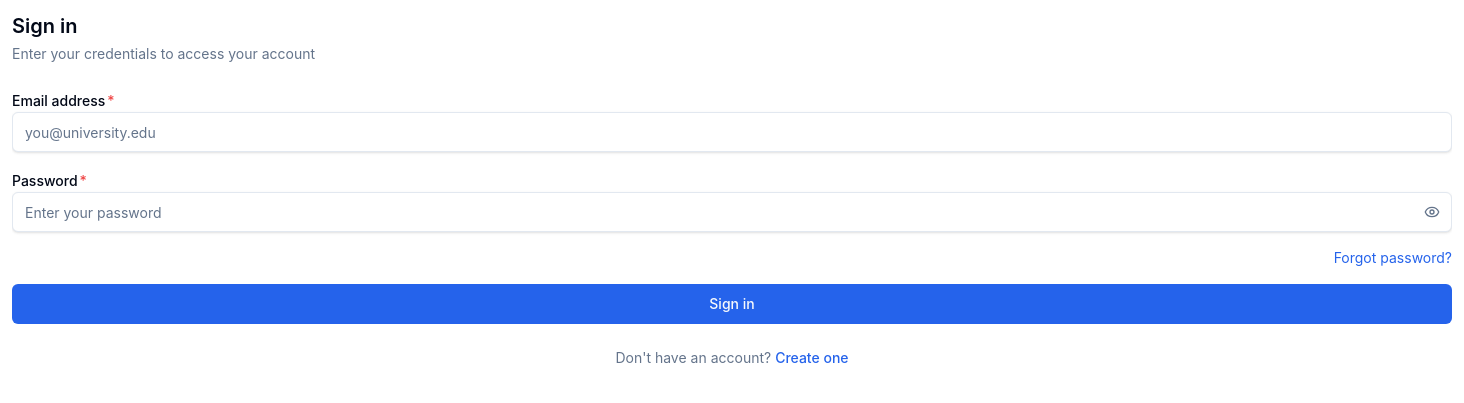
it: LoginPage › shows a validation error for a malformed email
Type "not-an-email" into the field labelled "Email address*" at coordinates (732, 132), box [12,112,1452,152]
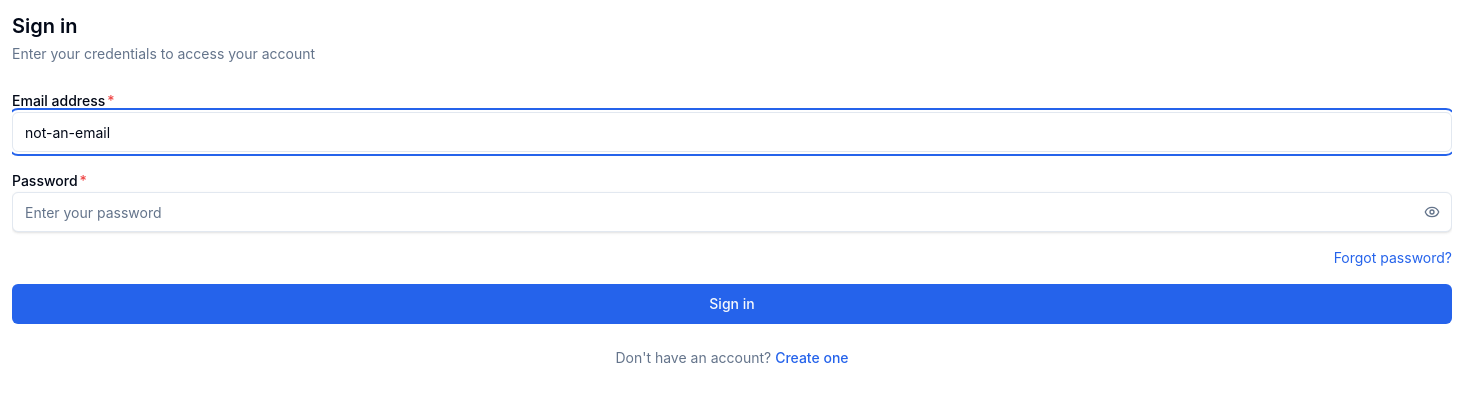
Type "secret123" into the password field labelled "Password*" at coordinates (732, 212), box [12,192,1452,232]
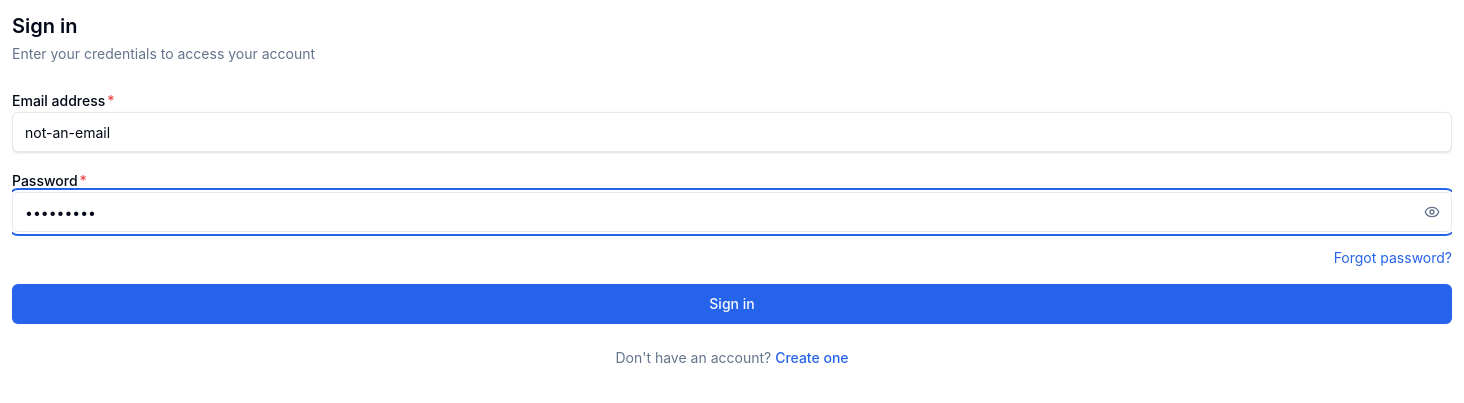
Click the button "Sign in" at coordinates (732, 304), box [12,284,1452,324]
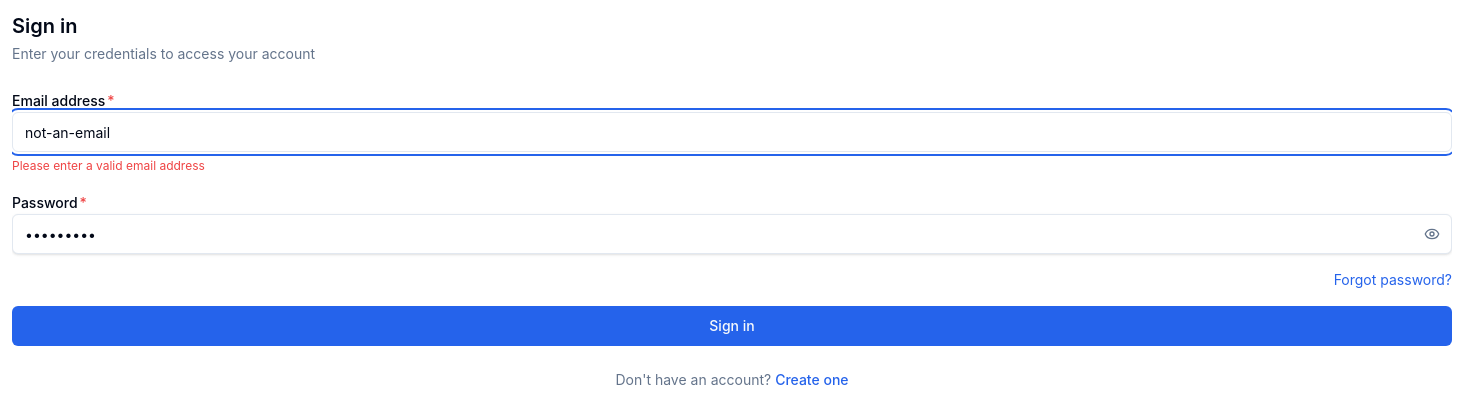
Expected: the text "Please enter a valid email address" is shown, [12,158,205,173]
